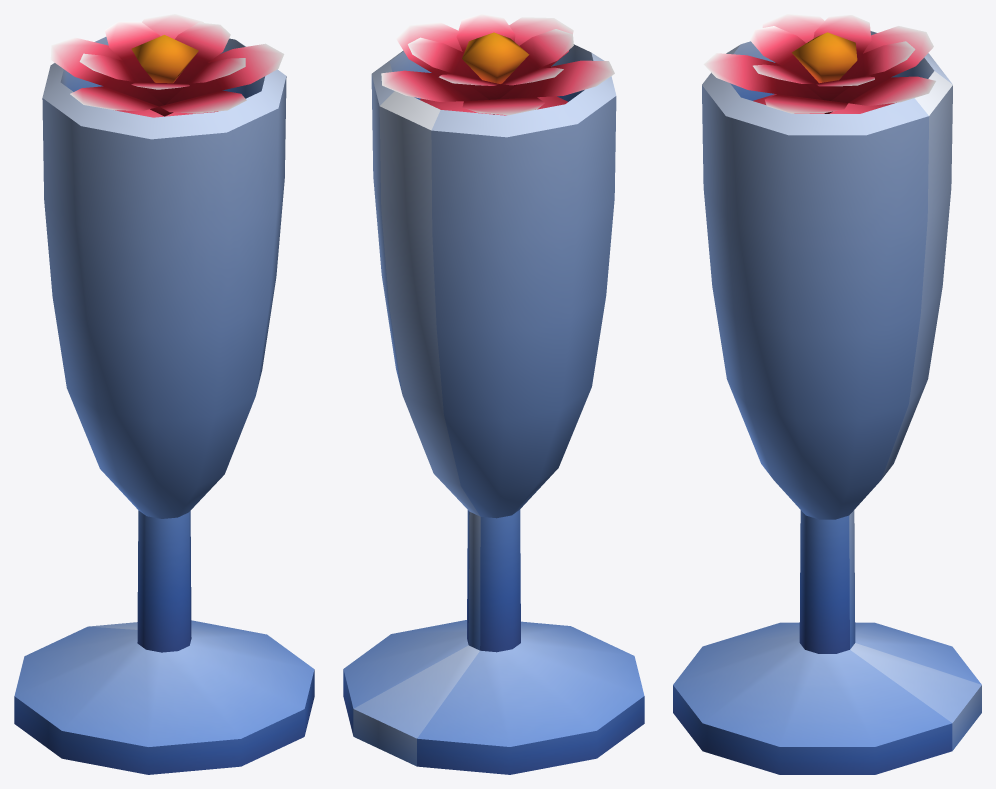
The model's file is m_FloralCocktail01.fbx.
The picture shows the model from 3 angles, left to right: view 1: azimuth 30°, elevation 25°; view 2: azimuth 150°, elevation 25°; view 3: azimuth 270°, elevation 25°; orthographic projection.
Parts seen in each view (by area): view 1: m_FloralCocktail01; view 2: m_FloralCocktail01; view 3: m_FloralCocktail01.
Boxes of the visible parts, x1=… form: m_FloralCocktail01: x1=14, y1=14, x2=314, y2=774; m_FloralCocktail01: x1=343, y1=14, x2=644, y2=774; m_FloralCocktail01: x1=673, y1=14, x2=981, y2=774.
Bounding box in the file's own units: 9.51 × 24.3 × 10.
